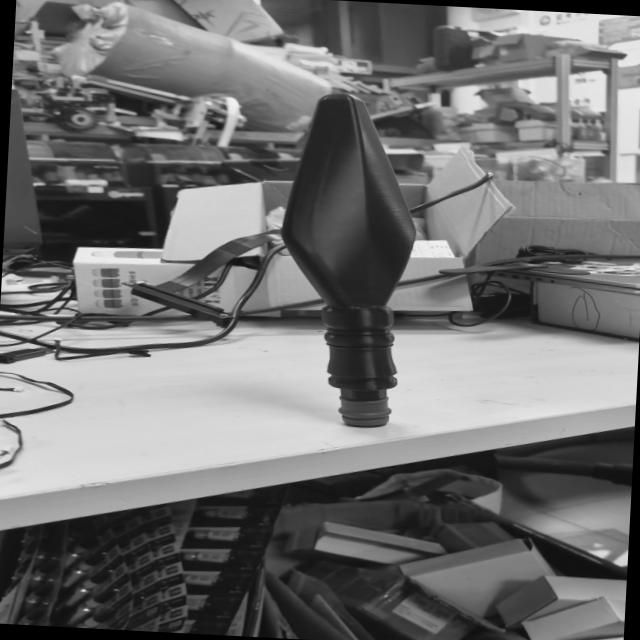base: (328, 391, 403, 436)
